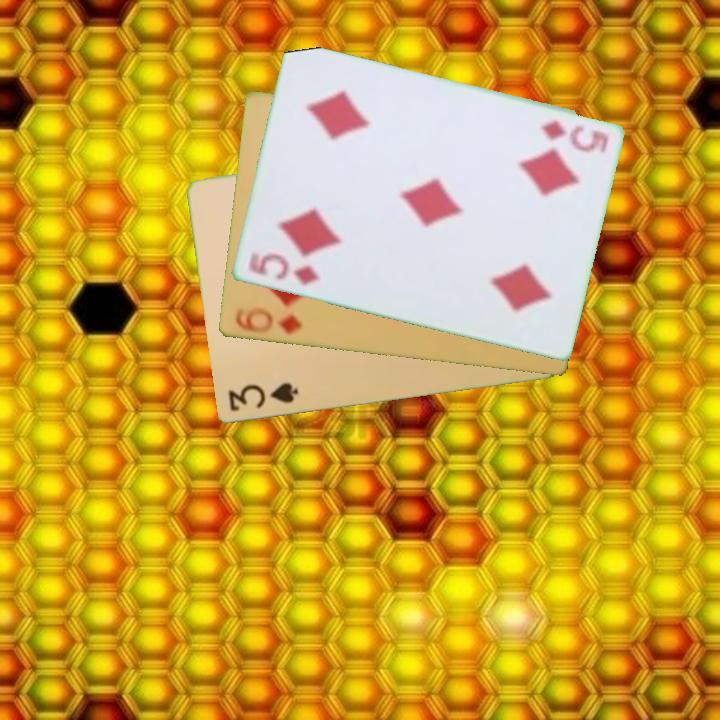3s: (224, 379, 301, 415)
5d: (244, 249, 322, 289), (536, 117, 612, 156)
6d: (231, 304, 305, 337)
